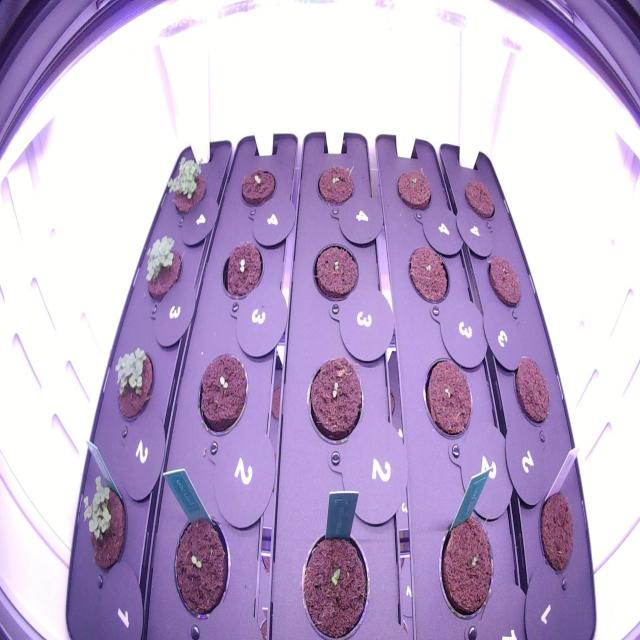germination: (294, 519, 375, 639), (433, 502, 502, 630), (165, 504, 236, 625), (301, 352, 367, 447), (76, 464, 129, 578), (193, 345, 252, 441), (419, 349, 476, 444), (108, 340, 160, 432), (162, 145, 211, 227), (216, 233, 266, 306), (140, 227, 186, 306), (309, 236, 361, 304), (312, 157, 359, 210), (236, 163, 280, 211)
pod: (536, 480, 578, 580), (508, 349, 553, 436), (405, 240, 452, 311), (483, 250, 526, 314), (392, 162, 435, 219), (459, 173, 498, 225)
